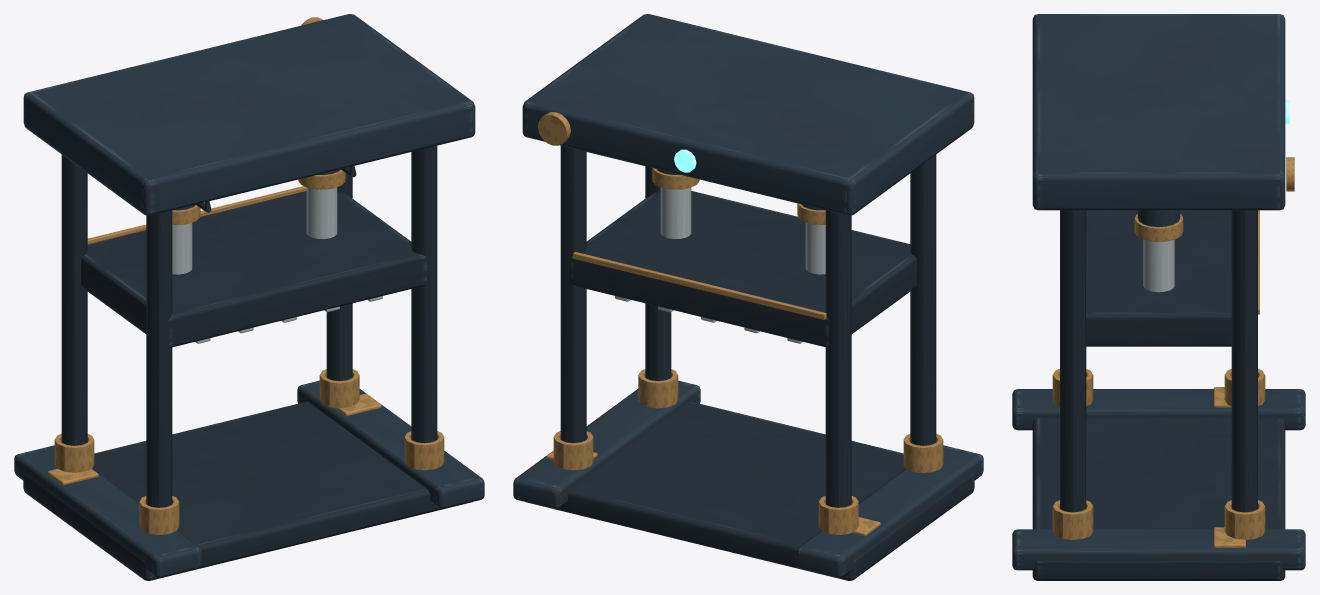
File: hydraulic_press.glb
3 renders of one model, left to right at view 1: azimuth 30°, elevation 25°; view 2: azimuth 150°, elevation 25°; view 3: azimuth 270°, elevation 25°, orthographic.
Visible parts, largest first — view 1: hydraulic_press__crown, hydraulic_press__ground_foundation, hydraulic_press__platen, hydraulic_press__column_2, hydraulic_press__column_3, hydraulic_press__column_0, hydraulic_press__foot_neg1, hydraulic_press__foot_1, hydraulic_press__column_1, hydraulic_press__telescopic_stage_1, hydraulic_press__column_collar_3, hydraulic_press__column_collar_2 (+5 smaller); view 2: hydraulic_press__crown, hydraulic_press__ground_foundation, hydraulic_press__platen, hydraulic_press__column_0, hydraulic_press__column_1, hydraulic_press__column_2, hydraulic_press__foot_neg1, hydraulic_press__foot_1, hydraulic_press__column_3, hydraulic_press__platen_band, hydraulic_press__telescopic_stage_1, hydraulic_press__column_collar_3 (+6 smaller); view 3: hydraulic_press__crown, hydraulic_press__ground_foundation, hydraulic_press__platen, hydraulic_press__foot_1, hydraulic_press__column_1, hydraulic_press__column_3, hydraulic_press__foot_neg1, hydraulic_press__telescopic_stage_1, hydraulic_press__column_collar_3, hydraulic_press__column_collar_1, hydraulic_press__gland_1, hydraulic_press__hydraulic_barrel_1 (+3 smaller).
Boxes of the visible parts, <box> form: hydraulic_press__crown: <box>23,14,475,215</box>; hydraulic_press__ground_foundation: <box>23,401,472,580</box>; hydraulic_press__platen: <box>81,191,427,347</box>; hydraulic_press__column_2: <box>146,210,172,507</box>; hydraulic_press__column_3: <box>411,145,437,443</box>; hydraulic_press__column_0: <box>61,154,87,445</box>; hydraulic_press__foot_neg1: <box>14,445,201,577</box>; hydraulic_press__foot_1: <box>297,380,484,508</box>; hydraulic_press__column_1: <box>326,167,352,381</box>; hydraulic_press__telescopic_stage_1: <box>306,187,337,239</box>; hydraulic_press__column_collar_3: <box>404,431,444,470</box>; hydraulic_press__column_collar_2: <box>139,496,179,535</box>; hydraulic_press__crown: <box>522,14,974,215</box>; hydraulic_press__ground_foundation: <box>525,401,974,580</box>; hydraulic_press__platen: <box>570,191,916,347</box>; hydraulic_press__column_0: <box>825,210,851,507</box>; hydraulic_press__column_1: <box>560,145,586,443</box>; hydraulic_press__column_2: <box>910,154,936,445</box>; hydraulic_press__foot_neg1: <box>796,445,983,577</box>; hydraulic_press__foot_1: <box>513,380,700,508</box>; hydraulic_press__column_3: <box>645,166,671,381</box>; hydraulic_press__platen_band: <box>573,252,826,319</box>; hydraulic_press__telescopic_stage_1: <box>660,187,691,239</box>; hydraulic_press__column_collar_3: <box>638,369,678,408</box>; hydraulic_press__crown: <box>1032,14,1285,210</box>; hydraulic_press__ground_foundation: <box>1032,418,1285,580</box>; hydraulic_press__platen: <box>1086,210,1231,346</box>; hydraulic_press__foot_1: <box>1012,529,1305,570</box>; hydraulic_press__column_1: <box>1231,210,1257,512</box>; hydraulic_press__column_3: <box>1060,210,1086,512</box>; hydraulic_press__foot_neg1: <box>1012,389,1305,430</box>; hydraulic_press__telescopic_stage_1: <box>1143,239,1174,292</box>; hydraulic_press__column_collar_3: <box>1052,500,1093,539</box>; hydraulic_press__column_collar_1: <box>1224,500,1265,539</box>; hydraulic_press__gland_1: <box>1134,214,1183,241</box>; hydraulic_press__hydraulic_barrel_1: <box>1137,210,1180,227</box>.
Size of the model in its own units: 1.92 by 2.22 by 1.45.
2 materials, 2 textured.
